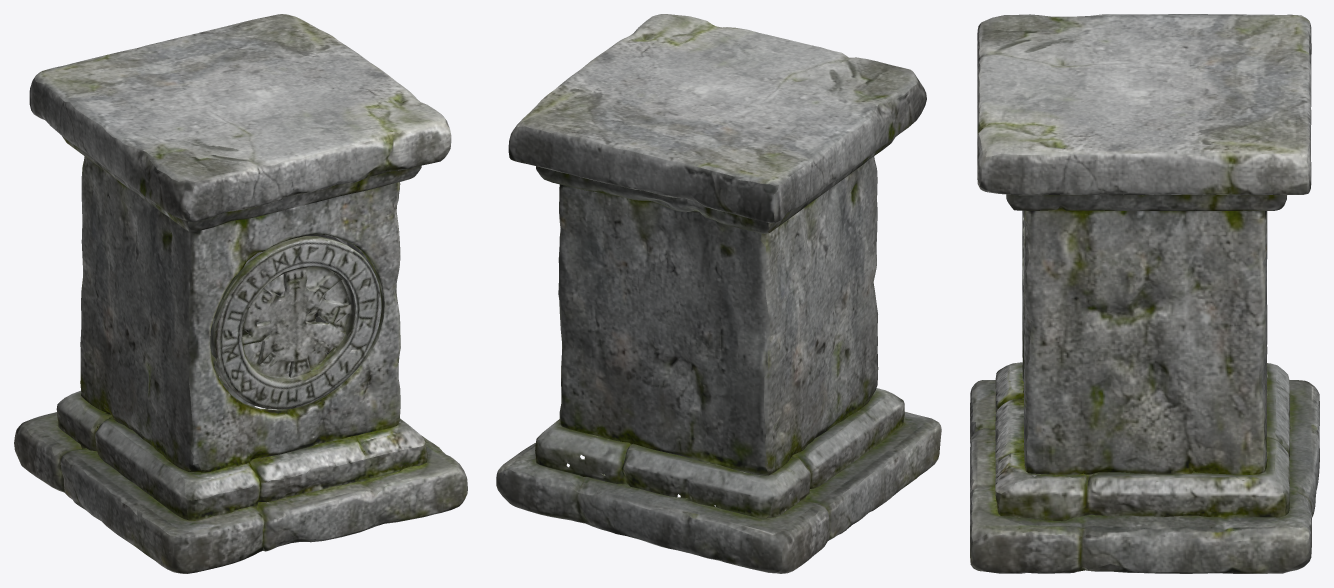
File: stone_altar.glb
3 views of the same model, side by side, from view 1: azimuth 30°, elevation 25°; view 2: azimuth 150°, elevation 25°; view 3: azimuth 270°, elevation 25° (orthographic). The views are drawn at different scales.
Visible parts, largest first — view 1: geometry_0; view 2: geometry_0; view 3: geometry_0.
Boxes of the visible parts, x1,y1,x2,y2 form: geometry_0: [14, 14, 467, 573]; geometry_0: [496, 14, 941, 573]; geometry_0: [970, 14, 1319, 573].
Bounding box in the file's own units: 0.6805 × 0.85 × 0.647.
Materials: 1 (1 with a texture image).
